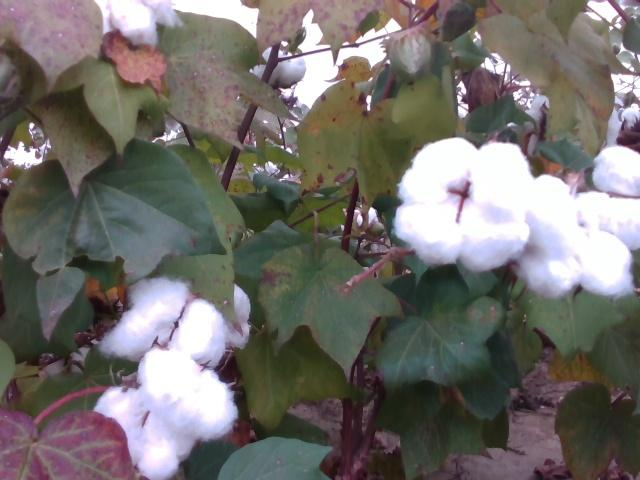cotton_ready: (93, 350, 236, 480), (396, 137, 531, 274), (518, 173, 634, 298), (102, 274, 250, 367), (87, 2, 184, 47)
